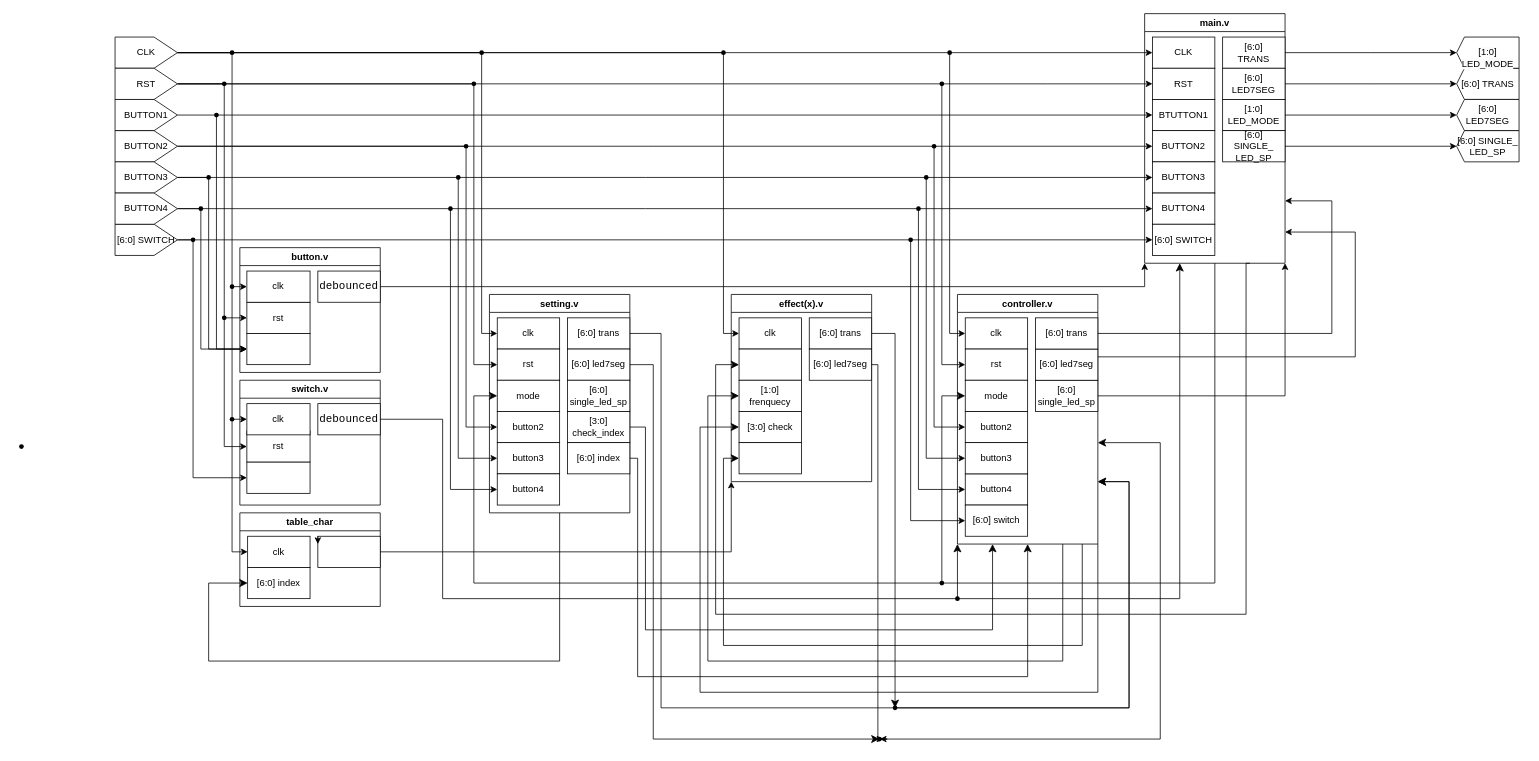
Some shapes in this 1539 by 761 pixel diagram are drawn without their labels. Each missing label, with the centre of its shape:
"[2:0] enable" belongs at point 769,364.
"[6:0] text" belongs at point 348,551.
"[6:0] text_index" belongs at point 769,458.
"btn" belongs at point 278,349.
"switch" belongs at point 278,477.
